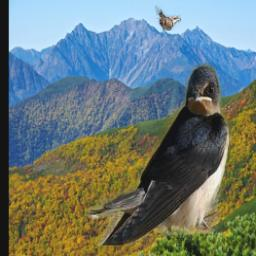Cuckoo: (154, 5, 180, 32)
Swallow: (85, 63, 231, 245)
